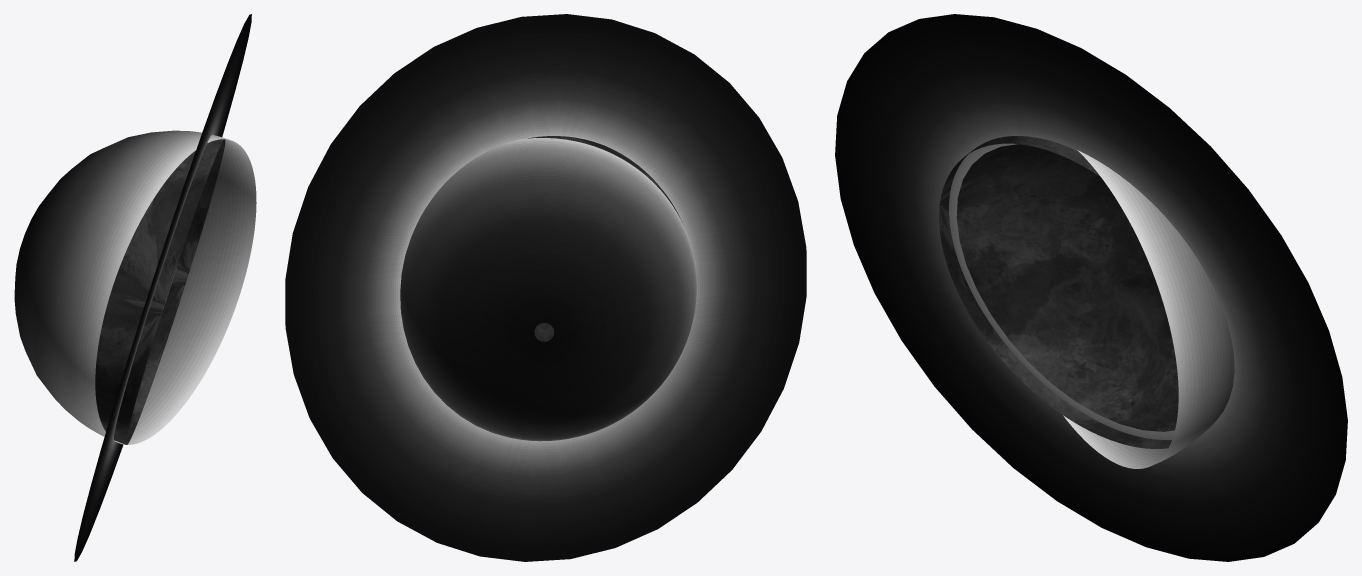
Rendered from env_space_malachor_01_pre.glb.
The picture shows the model from 3 angles, left to right: view 1: azimuth 30°, elevation 25°; view 2: azimuth 150°, elevation 25°; view 3: azimuth 270°, elevation 25°; orthographic projection. The views are drawn at different scales.
Parts seen in each view (by area): view 1: planet_fresnel_mesh, planet_body_mesh, planet_glow_mesh; view 2: planet_glow_mesh, planet_fresnel_mesh, planet_body_mesh; view 3: planet_glow_mesh, planet_body_mesh, planet_fresnel_mesh.
Boxes of the visible parts, x1,y1,x2,y2 form: planet_fresnel_mesh: [14, 130, 256, 444]; planet_body_mesh: [95, 139, 225, 444]; planet_glow_mesh: [74, 14, 251, 561]; planet_glow_mesh: [285, 14, 806, 561]; planet_fresnel_mesh: [400, 138, 696, 441]; planet_body_mesh: [476, 136, 683, 356]; planet_glow_mesh: [835, 14, 1347, 561]; planet_body_mesh: [939, 136, 1178, 448]; planet_fresnel_mesh: [1063, 150, 1234, 468].
Bounding box in the file's own units: 603 × 866 × 703.
Materials: 3 (3 with a texture image).
